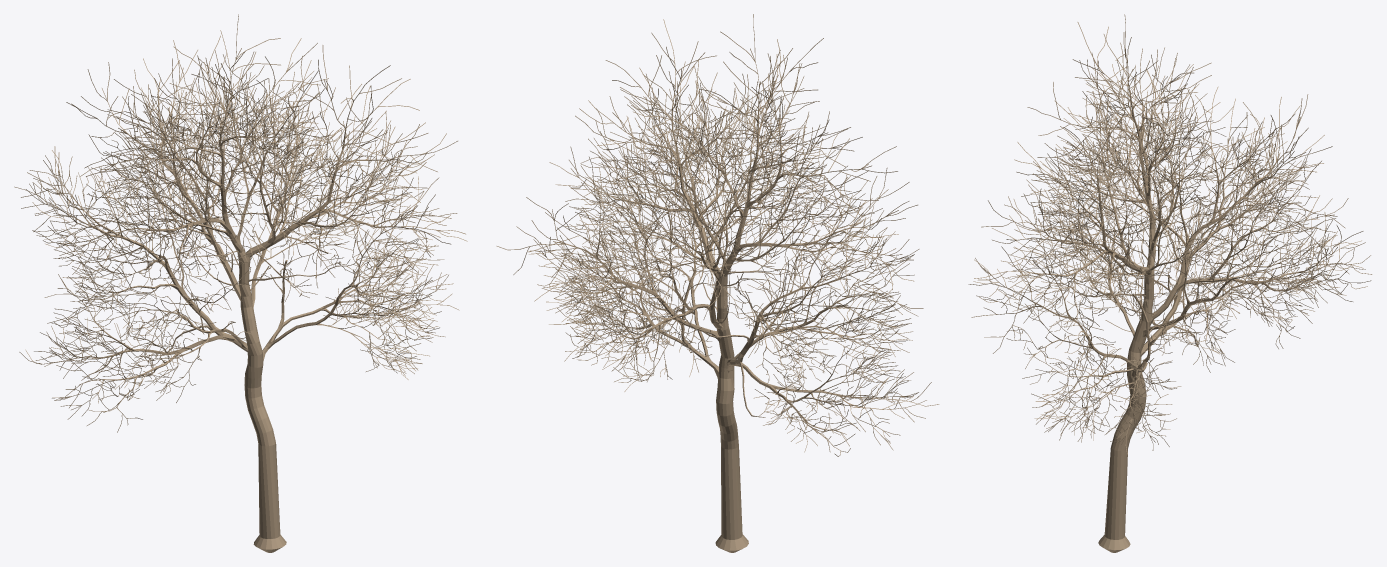
File: Oak_tree.fbx
3 views of the same model, side by side, from view 1: azimuth 30°, elevation 25°; view 2: azimuth 150°, elevation 25°; view 3: azimuth 270°, elevation 25° (orthographic). The views are drawn at different scales.
Parts seen in each view (by area): view 1: Oak_tree_mesh; view 2: Oak_tree_mesh; view 3: Oak_tree_mesh.
Part boxes in pixels (box(x1,y1,x2,y2)): Oak_tree_mesh: box(14, 14, 467, 552); Oak_tree_mesh: box(496, 14, 939, 552); Oak_tree_mesh: box(968, 14, 1372, 552).
Size of the model in its own units: 438 by 596 by 416.
